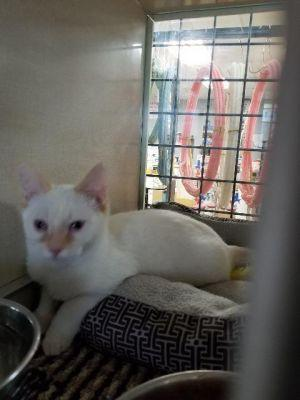siamese: (6, 159, 119, 276)
